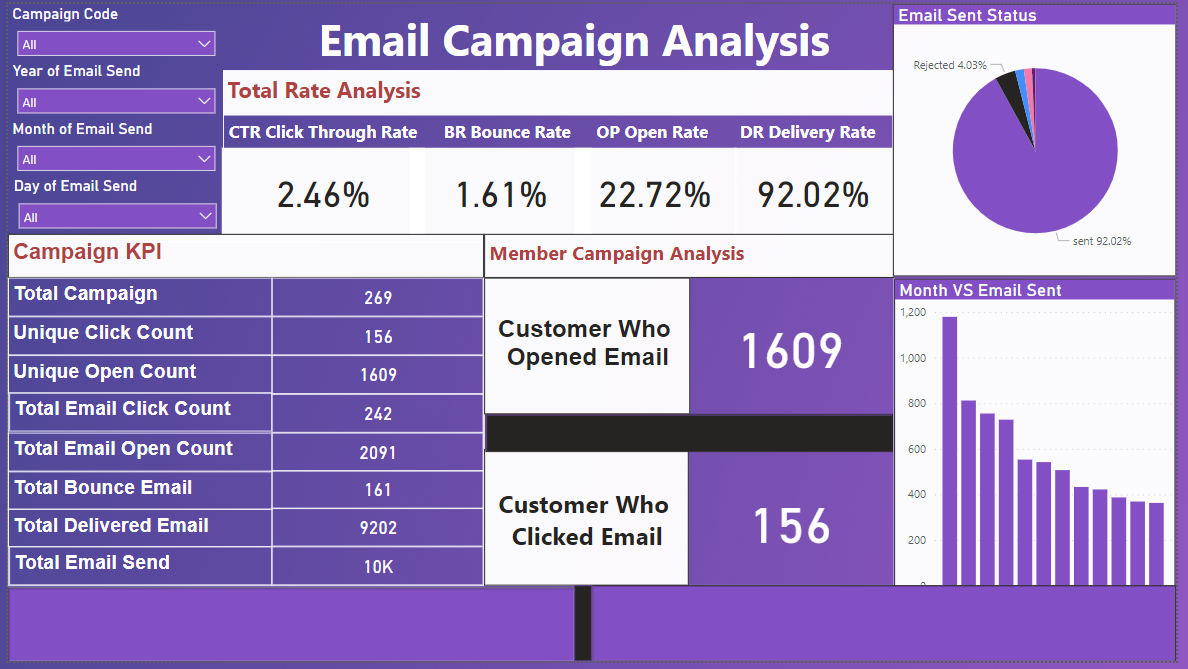

The dashboard page shown, as its layout file describes it:
{"tool":"powerbi","page":{"name":"Page 1","canvas":[1280,720],"ordinal":0},"visuals":[{"type":"textbox","box":[271.4,0,698.3,90.5],"z":0},{"type":"slicer","title":"Campaign Code","fields":{"Values":["TBL_Communication.CampaignCodJ"]},"box":[0,0,237.6,62.7],"z":1000},{"type":"slicer","title":"Year of Email Send","fields":{"Values":["TBL_Communication.Email_SentDate.Variation.Date Hierarchy.Year"]},"box":[0,62.7,237.6,62.7],"z":2000},{"type":"slicer","title":"Month of Email Send","fields":{"Values":["TBL_Communication.Email_SentDate.Variation.Date Hierarchy.Month"]},"box":[0,126.6,237.6,62.7],"z":3000},{"type":"slicer","title":"Day of Email Send","fields":{"Values":["TBL_Communication.Email_SentDate.Variation.Date Hierarchy.Day"]},"box":[1.2,189.3,237.6,62.7],"z":4000},{"type":"shape","box":[235.2,72.4,734.5,179.7],"z":5000},{"type":"textbox","box":[235.2,72.4,734.5,49.4],"z":6000},{"type":"textbox","box":[0,260,521.3,377.3],"z":7000},{"type":"textbox","box":[237.6,121.8,243.6,47],"z":8000},{"type":"textbox","box":[472.8,121.8,191.8,47],"z":9000},{"type":"textbox","box":[640.4,121.8,156.8,47],"z":10000},{"type":"textbox","box":[797.2,121.8,173.7,47],"z":11000},{"type":"textbox","box":[0,252,521.3,48],"z":12000},{"type":"textbox","box":[0,300,289.3,42.7],"z":13000},{"type":"textbox","box":[0,342.5,289.4,42.2],"z":13001},{"type":"textbox","box":[1.3,426.7,288,42.7],"z":13002},{"type":"textbox","box":[0,385.3,289.3,41.3],"z":13003},{"type":"textbox","box":[0,469.3,289.3,42.7],"z":13004},{"type":"textbox","box":[0,512,289.3,41.3],"z":13005},{"type":"textbox","box":[0,553.3,289.3,41.3],"z":13006},{"type":"textbox","box":[1.3,594.7,288,42.7],"z":13007},{"type":"card","fields":{"Values":["Count(TBL_Communication.CampaignCodJ)"]},"box":[289.3,300,232,42.7],"z":13008},{"type":"card","fields":{"Values":["Sum(TBL_Communication.Unique_click)"]},"box":[289.3,342.7,232,42.7],"z":13009},{"type":"card","fields":{"Values":["Sum(TBL_Communication.Unique_open)"]},"box":[289.3,385.3,232,42.7],"z":13010},{"type":"card","fields":{"Values":["Sum(TBL_Communication.Email_Click_Count)"]},"box":[289.3,428,232,42.7],"z":13011},{"type":"card","fields":{"Values":["Sum(TBL_Communication.Email_Open_Count)"]},"box":[289.3,469.3,232,42.7],"z":13012},{"type":"card","fields":{"Values":["Sum(TBL_Communication.Bounced_email)"]},"box":[289.3,510.7,232,42.7],"z":13013},{"type":"card","fields":{"Values":["Sum(TBL_Communication.Sent_email)"]},"box":[289.3,552,232,42.7],"z":13014},{"type":"card","fields":{"Values":["Sum(TBL_Communication.Is_Email_Sent)"]},"box":[289.3,594.7,232,42.7],"z":13015},{"type":"card","fields":{"Values":["TBL_Communication.CTR"]},"box":[234.7,157.3,222.7,94.7],"z":13016},{"type":"card","fields":{"Values":["TBL_Communication.BR"]},"box":[440,157.3,200,94.7],"z":13017},{"type":"card","fields":{"Values":["TBL_Communication.OR"]},"box":[620,157.3,177.3,94.7],"z":13018},{"type":"card","fields":{"Values":["TBL_Communication.DR"]},"box":[796,157.3,173.3,94.7],"z":13019},{"type":"shape","box":[521.3,252,449.3,385.3],"z":13020},{"type":"textbox","box":[521.3,252,449.3,48],"z":13021},{"type":"textbox","box":[521.3,300,225.3,149.3],"z":13022},{"type":"textbox","box":[521.3,488,224,149.3],"z":13023},{"type":"shape","box":[522.7,449.3,446.7,41.3],"z":13024},{"type":"card","fields":{"Values":["CountNonNull(TBL_Communication.Member Open)"]},"box":[745.3,298.7,224,149.3],"z":13025},{"type":"card","fields":{"Values":["CountNonNull(TBL_Communication.Member Clicked Count)"]},"box":[745.3,490.7,224,149.3],"z":13026},{"type":"pieChart","title":"Email Sent Status","fields":{"Category":["TBL_Communication.Email_Sent_Status"],"Y":["CountNonNull(TBL_Communication.CampaignCodJ)"]},"box":[969.3,0,310.7,298.7],"z":13027},{"type":"clusteredColumnChart","title":"Month VS Email Sent","fields":{"Category":["TBL_Communication.Month_Year"],"Y":["CountNonNull(TBL_Communication.Is_SMS_Sent)"]},"box":[971.2,301.4,308.2,419.2],"z":13028},{"type":"tableEx","box":[0,639.6,1279.2,81.1],"z":13029},{"type":"shape","box":[0,639.7,620.5,80.8],"z":13030},{"type":"shape","box":[639.7,637,639.7,83.6],"z":13031},{"type":"shape","box":[620.5,637,19.2,83.6],"z":13032}]}

Visuals, with their boxes in screenshot pixels (x1, y1, x2, y2), scaled from the page's 1280x720 canvas onto the 1188x669 screenshot:
textbox: <region>252, 0, 900, 84</region>
"Campaign Code" slicer: <region>0, 0, 221, 58</region>
"Year of Email Send" slicer: <region>0, 58, 221, 117</region>
"Month of Email Send" slicer: <region>0, 118, 221, 176</region>
"Day of Email Send" slicer: <region>1, 176, 222, 234</region>
shape: <region>218, 67, 900, 234</region>
textbox: <region>218, 67, 900, 113</region>
textbox: <region>0, 242, 484, 592</region>
textbox: <region>221, 113, 447, 157</region>
textbox: <region>439, 113, 617, 157</region>
textbox: <region>594, 113, 740, 157</region>
textbox: <region>740, 113, 901, 157</region>
textbox: <region>0, 234, 484, 279</region>
textbox: <region>0, 279, 269, 318</region>
textbox: <region>0, 318, 269, 357</region>
textbox: <region>1, 396, 269, 436</region>
textbox: <region>0, 358, 269, 396</region>
textbox: <region>0, 436, 269, 476</region>
textbox: <region>0, 476, 269, 514</region>
textbox: <region>0, 514, 269, 552</region>
textbox: <region>1, 553, 269, 592</region>
card - Count(TBL_Communication.CampaignCodJ): <region>269, 279, 484, 318</region>
card - Sum(TBL_Communication.Unique_click): <region>269, 318, 484, 358</region>
card - Sum(TBL_Communication.Unique_open): <region>269, 358, 484, 398</region>
card - Sum(TBL_Communication.Email_Click_Count): <region>269, 398, 484, 437</region>
card - Sum(TBL_Communication.Email_Open_Count): <region>269, 436, 484, 476</region>
card - Sum(TBL_Communication.Bounced_email): <region>269, 475, 484, 514</region>
card - Sum(TBL_Communication.Sent_email): <region>269, 513, 484, 553</region>
card - Sum(TBL_Communication.Is_Email_Sent): <region>269, 553, 484, 592</region>
card - TBL_Communication.CTR: <region>218, 146, 425, 234</region>
card - TBL_Communication.BR: <region>408, 146, 594, 234</region>
card - TBL_Communication.OR: <region>575, 146, 740, 234</region>
card - TBL_Communication.DR: <region>739, 146, 900, 234</region>
shape: <region>484, 234, 901, 592</region>
textbox: <region>484, 234, 901, 279</region>
textbox: <region>484, 279, 693, 417</region>
textbox: <region>484, 453, 692, 592</region>
shape: <region>485, 417, 900, 456</region>
card - CountNonNull(TBL_Communication.Member Open): <region>692, 278, 900, 416</region>
card - CountNonNull(TBL_Communication.Member Clicked Count): <region>692, 456, 900, 595</region>
"Email Sent Status" pieChart: <region>900, 0, 1187, 278</region>
"Month VS Email Sent" clusteredColumnChart: <region>901, 280, 1187, 668</region>
tableEx: <region>0, 594, 1187, 668</region>
shape: <region>0, 594, 576, 668</region>
shape: <region>594, 592, 1187, 668</region>
shape: <region>576, 592, 594, 668</region>
